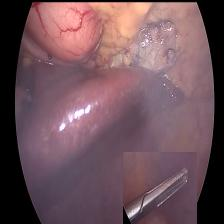Grasper: (122, 151, 195, 224)
